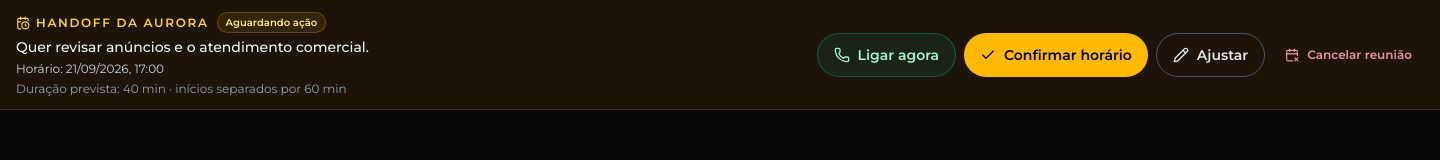
it: ConversationHandoffCard — cancelar reunião › "Manter reunião" volta atrás sem cancelar nada
Click the button "Cancelar reunião": (1349, 54) 1273,32 -> 1424,76
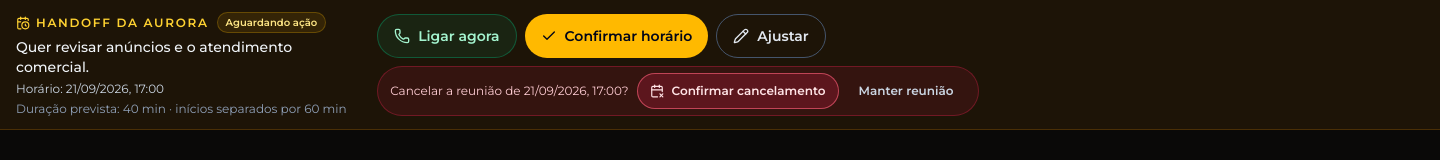
Click the button "Manter reunião": (906, 90) 847,72 -> 966,108
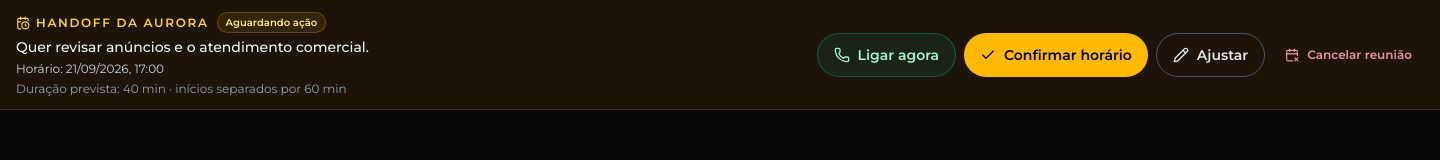
Result: the button "Confirmar cancelamento" is gone
Result: the button "Cancelar reunião" is shown at 1273,32 -> 1424,76
